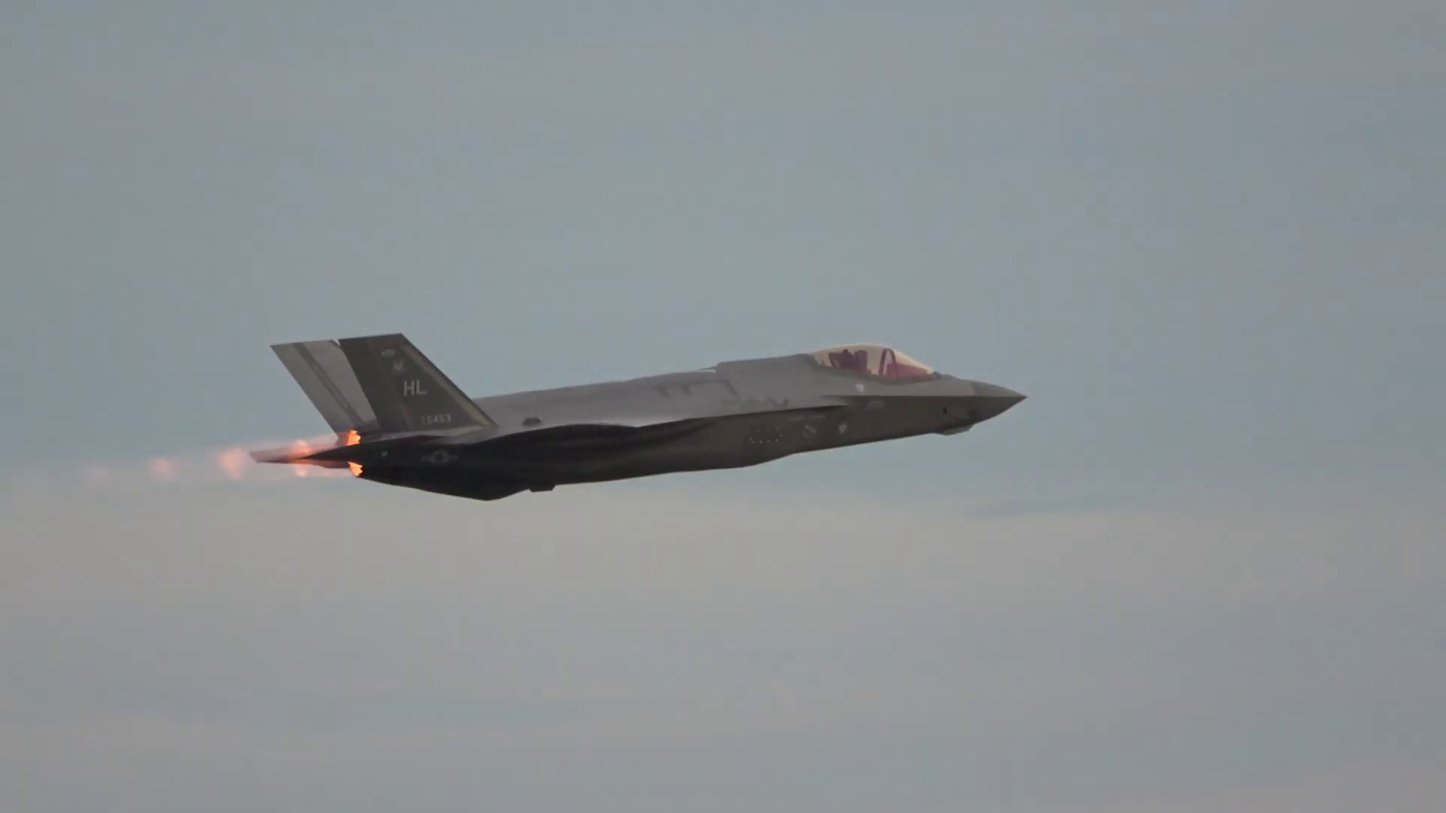F35: (241, 301, 1034, 508)
